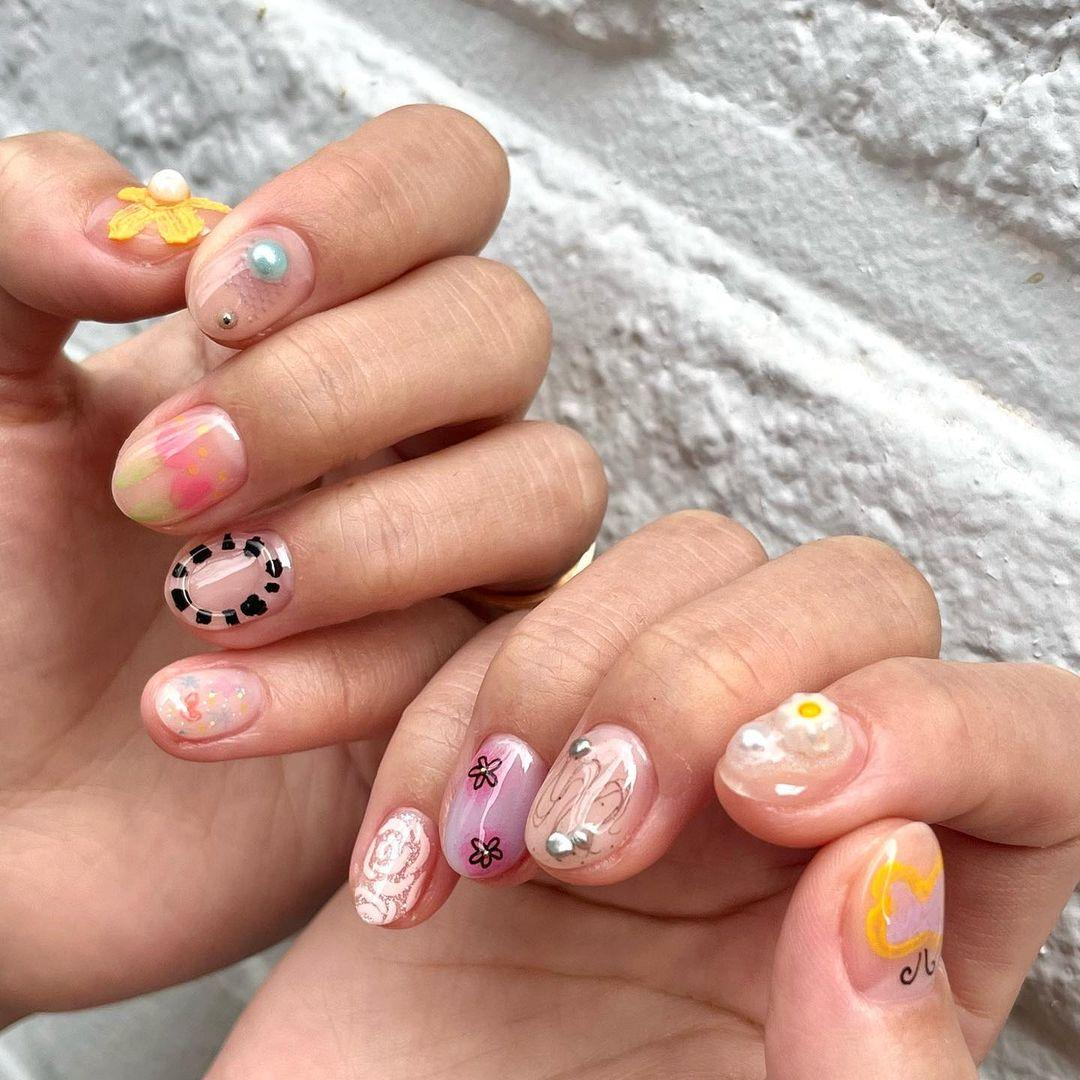nail: (523, 721, 658, 879), (109, 402, 248, 528), (183, 221, 316, 346), (439, 731, 548, 882), (162, 526, 295, 631), (351, 806, 437, 927), (151, 664, 264, 743)
